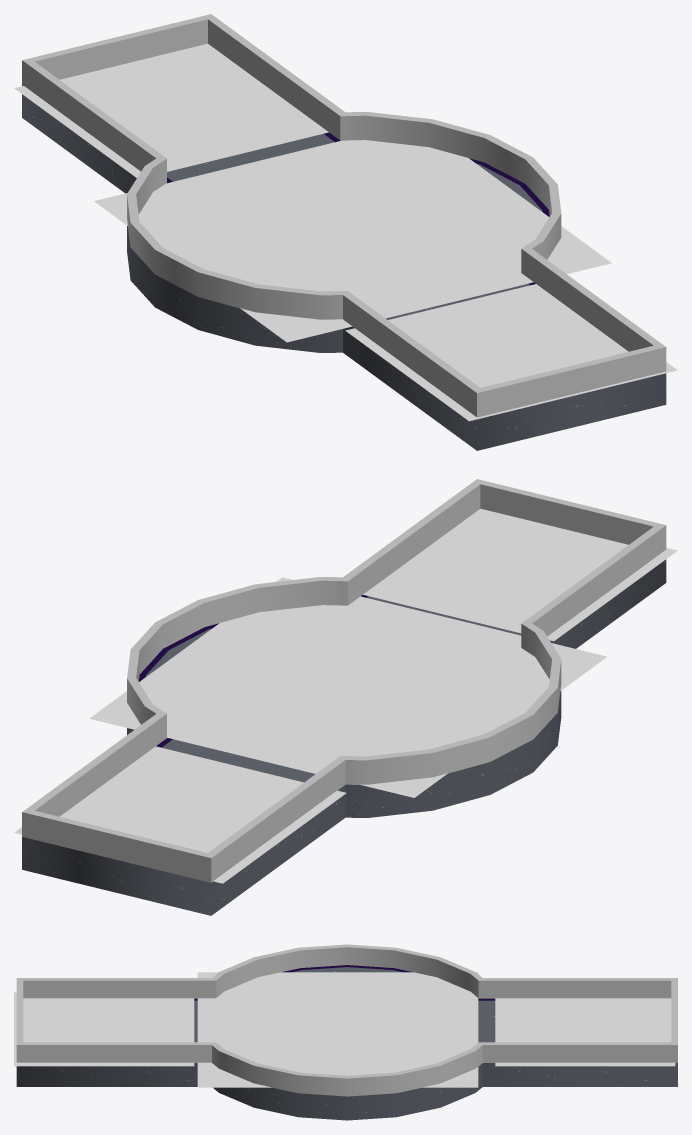
The model's file is Duel_Stage 4.fbx.
The picture shows the model from 3 angles, top to bottom: view 1: azimuth 30°, elevation 25°; view 2: azimuth 150°, elevation 25°; view 3: azimuth 270°, elevation 25°; orthographic projection. The views are drawn at different scales.
Visible parts, largest first — view 1: Plane.036, Cylinder.010, Cylinder, Plane.038, Plane.037; view 2: Plane.036, Cylinder.010, Cylinder, Plane.037, Plane.038; view 3: Cylinder.010, Plane.036, Cylinder, Plane.038, Plane.037, Cylinder.011.
Boxes of the visible parts, <box> form: Plane.036: <box>94,140,611,342</box>; Cylinder.010: <box>22,14,666,417</box>; Cylinder: <box>22,85,666,450</box>; Plane.038: <box>14,43,328,177</box>; Plane.037: <box>345,284,677,421</box>; Plane.036: <box>89,577,606,797</box>; Cylinder.010: <box>22,479,666,882</box>; Cylinder: <box>22,559,666,915</box>; Plane.037: <box>363,508,677,641</box>; Plane.038: <box>14,746,346,883</box>; Cylinder.010: <box>16,944,677,1096</box>; Plane.036: <box>197,972,478,1087</box>; Cylinder: <box>16,967,677,1120</box>; Plane.038: <box>495,998,675,1066</box>; Plane.037: <box>14,992,194,1066</box>; Cylinder.011: <box>194,965,495,1000</box>.
Bounding box in the file's own units: 2400 × 350 × 5020.
